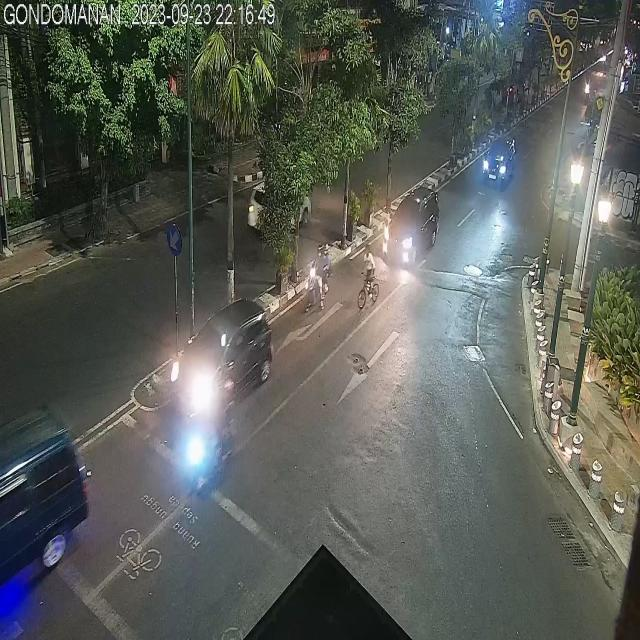car: (0, 389, 89, 606), (169, 298, 272, 409), (245, 177, 315, 244), (382, 190, 438, 268), (481, 139, 523, 186)
motorcycle: (190, 382, 240, 497), (304, 236, 332, 316)
